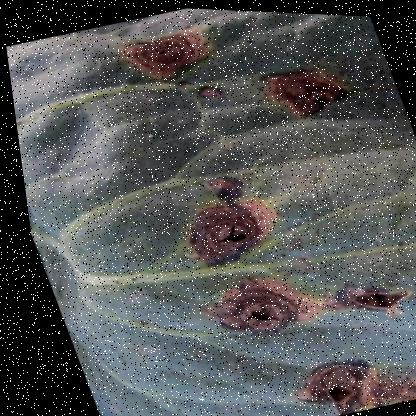Anthracnose: (179, 259, 323, 348), (242, 40, 364, 130), (105, 7, 226, 97), (167, 173, 283, 261)
